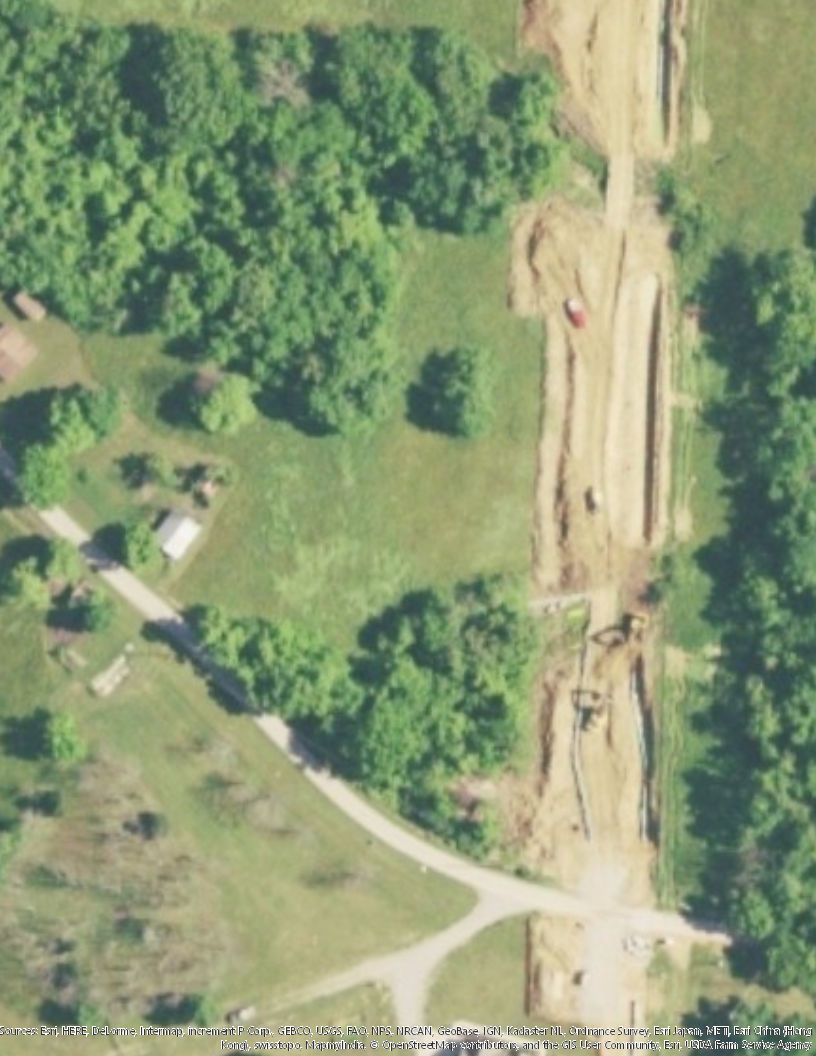cafo: (149, 508, 202, 563)
